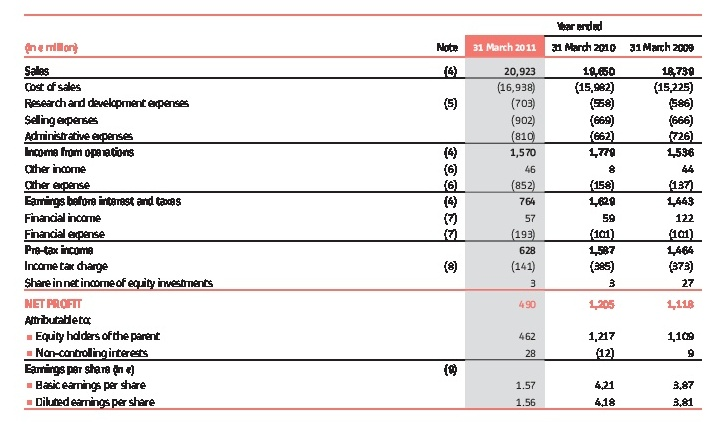table: (0, 0, 721, 424)
